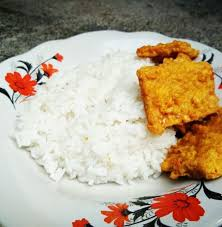Nasi putih: (18, 53, 153, 187)
Tempe goreng: (139, 52, 215, 137), (163, 117, 222, 187)
